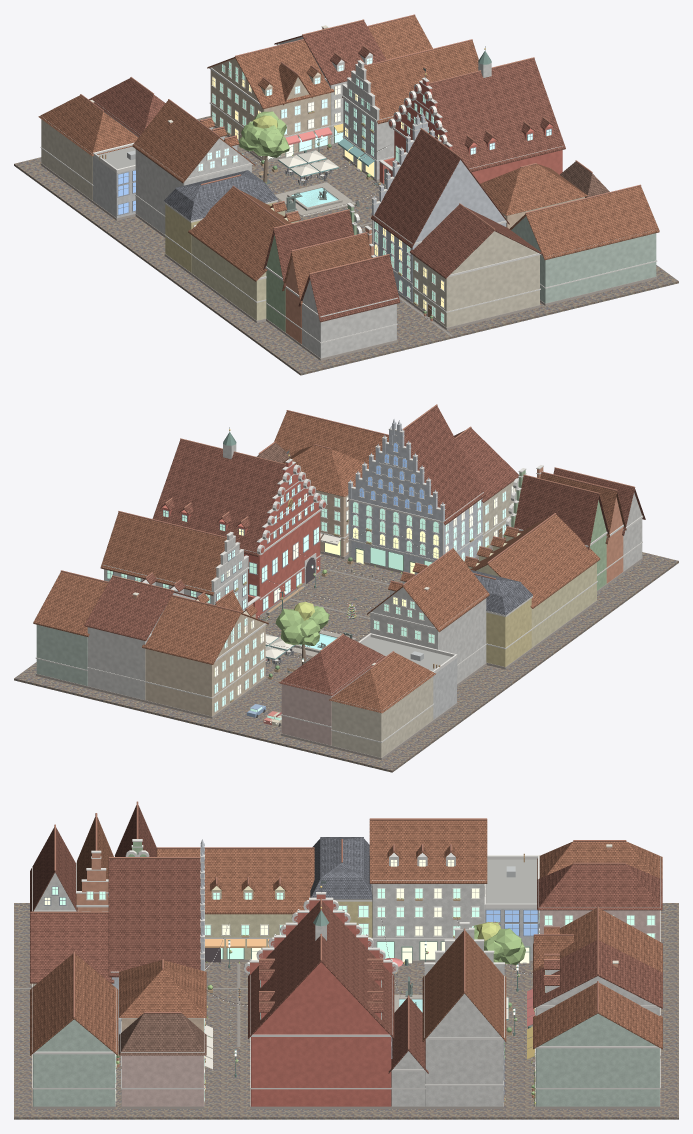
The model's file is fischerbrunnen.glb.
3 views of the same model, one above another, from view 1: azimuth 30°, elevation 25°; view 2: azimuth 150°, elevation 25°; view 3: azimuth 270°, elevation 25° (orthographic). The views are drawn at different scales.
Parts seen in each view (by area): view 1: Ground_Fischmarkt, B_E2_Rathaus, B_S4, B_S2, B_S0_Keimblatt, B_N1_Schuhhof, B_W3_Ernstings, B_W6_WeisserGiebel, B_E1_WeisserStaffelgiebel, B_W1_VeroModa, B_NW1, B_W2_Fellini (+11 smaller); view 2: Ground_Fischmarkt, B_E2_Rathaus, B_S0_Keimblatt, B_N1_Schuhhof, B_W1_VeroModa, B_W3_Ernstings, B_E1_WeisserStaffelgiebel, B_NW1, B_N2_Stadtbaeckerei, B_NW2, B_N3, B_W4_GruenerGiebel (+9 smaller); view 3: B_E2_Rathaus, Ground_Fischmarkt, B_W1_VeroModa, B_N3, B_E1_WeisserStaffelgiebel, B_S4, B_S0_Keimblatt, B_W3_Ernstings, B_S3, B_NW2, B_N2_Stadtbaeckerei, B_S1_GelbesHaus (+10 smaller).
Part boxes in pixels (bbox=[...]): Ground_Fischmarkt: bbox=[14, 116, 678, 375]; B_E2_Rathaus: bbox=[388, 46, 565, 183]; B_S4: bbox=[509, 184, 659, 305]; B_S2: bbox=[409, 203, 543, 329]; B_S0_Keimblatt: bbox=[371, 113, 509, 304]; B_N1_Schuhhof: bbox=[207, 39, 334, 161]; B_W3_Ernstings: bbox=[188, 185, 300, 322]; B_W6_WeisserGiebel: bbox=[298, 254, 399, 360]; B_E1_WeisserStaffelgiebel: bbox=[338, 39, 478, 181]; B_W1_VeroModa: bbox=[132, 99, 255, 237]; B_NW1: bbox=[38, 94, 138, 202]; B_W2_Fellini: bbox=[164, 170, 278, 274]; Ground_Fischmarkt: bbox=[14, 539, 678, 772]; B_E2_Rathaus: bbox=[152, 427, 326, 617]; B_S0_Keimblatt: bbox=[347, 404, 485, 573]; B_N1_Schuhhof: bbox=[142, 590, 268, 718]; B_W1_VeroModa: bbox=[367, 548, 489, 686]; B_W3_Ernstings: bbox=[464, 513, 600, 649]; B_E1_WeisserStaffelgiebel: bbox=[100, 511, 249, 611]; B_NW1: bbox=[329, 651, 435, 760]; B_N2_Stadtbaeckerei: bbox=[84, 572, 197, 702]; B_NW2: bbox=[276, 634, 385, 747]; B_N3: bbox=[33, 570, 108, 688]; B_W4_GruenerGiebel: bbox=[505, 468, 609, 593]; B_E2_Rathaus: bbox=[244, 880, 398, 1109]; Ground_Fischmarkt: bbox=[14, 903, 678, 1119]; B_W1_VeroModa: bbox=[369, 818, 487, 964]; B_N3: bbox=[531, 981, 662, 1109]; B_E1_WeisserStaffelgiebel: bbox=[422, 922, 506, 1109]; B_S4: bbox=[30, 951, 119, 1109]; B_S0_Keimblatt: bbox=[108, 839, 206, 1043]; B_W3_Ernstings: bbox=[156, 847, 314, 962]; B_S3: bbox=[119, 1012, 206, 1109]; B_NW2: bbox=[537, 862, 662, 941]; B_N2_Stadtbaeckerei: bbox=[527, 938, 662, 1064]; B_S1_GelbesHaus: bbox=[119, 959, 212, 1070].
Size of the model in its own units: 80 by 31.4 by 105.
72 materials, 22 textured.
